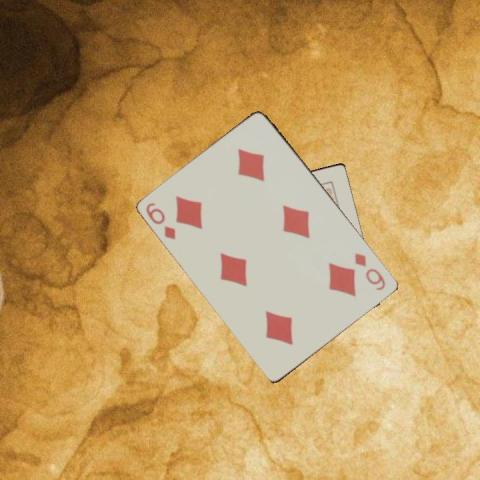6d: (352, 249, 388, 292), (143, 199, 178, 241)
